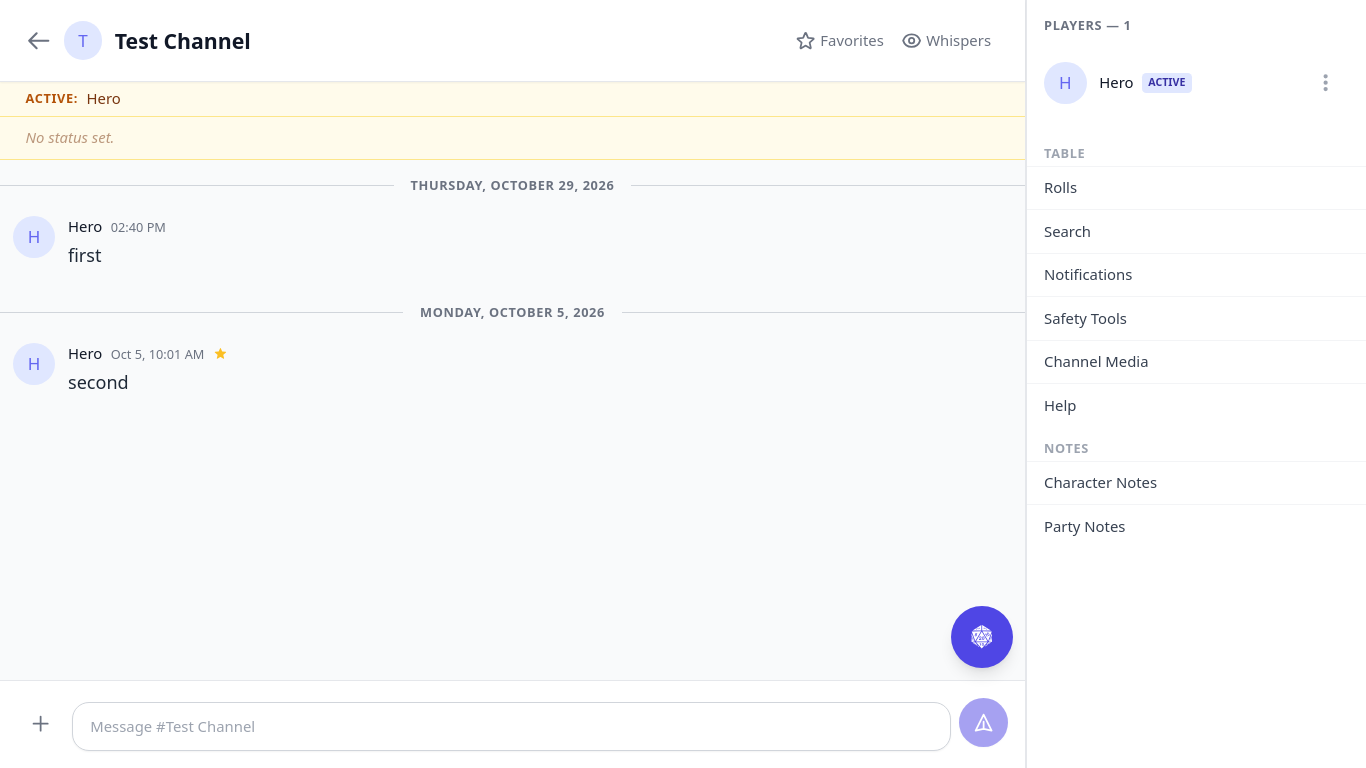
it: ChannelView search functionality › filters to favorite messages when the header toggle is pressed (#634)
The width and height of the screenshot is (1366, 768).
Expected: the text "first" is shown, 68,243 -> 102,267
Click the button with aria-label "Show favorites only" at (839, 40), box 786,17 -> 892,64
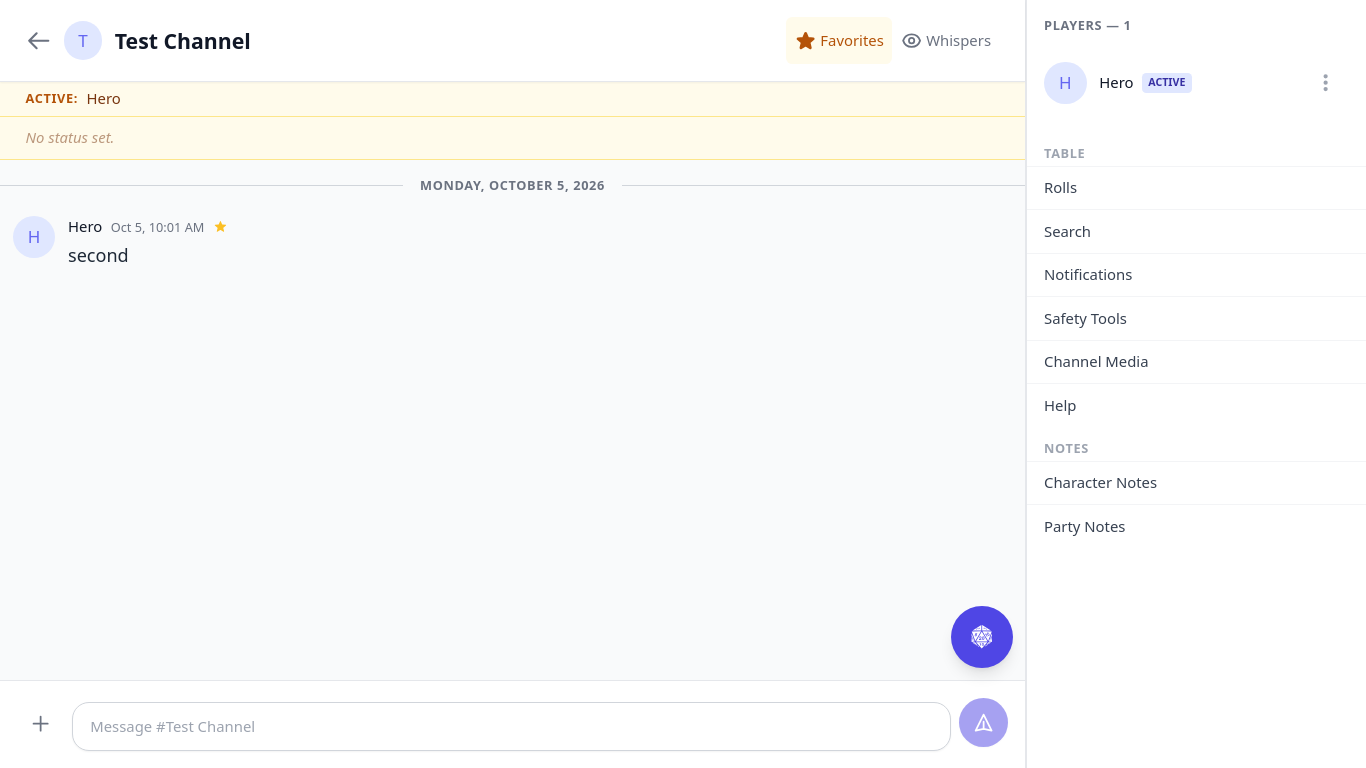
Expected: the text "second" is shown, 68,243 -> 129,267
Now the text "first" is gone
